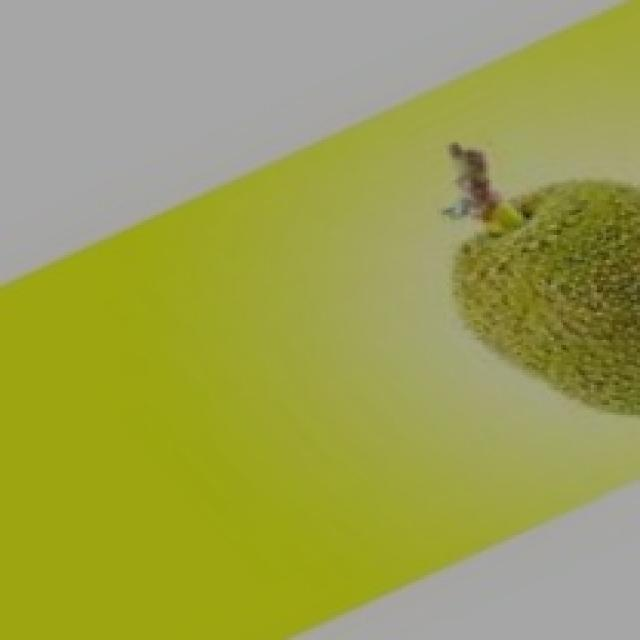Fruit: (406, 150, 640, 460)
